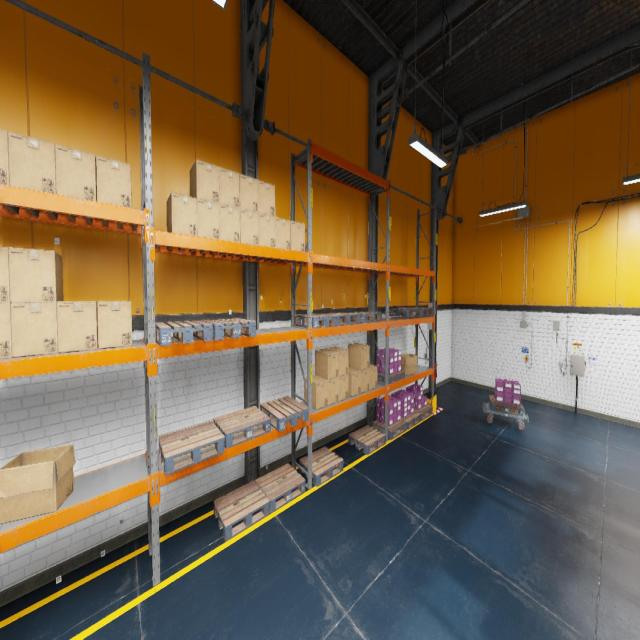box: (0, 444, 75, 524), (8, 130, 56, 194), (8, 247, 63, 302), (10, 302, 58, 358), (55, 144, 97, 202), (57, 301, 98, 353), (96, 155, 131, 207), (97, 301, 132, 348), (166, 192, 197, 236), (190, 159, 220, 203), (197, 198, 220, 239), (304, 374, 328, 410), (219, 167, 240, 208), (220, 204, 240, 242), (315, 348, 339, 379), (240, 208, 259, 244), (240, 174, 258, 212), (0, 303, 12, 358), (258, 180, 275, 216), (327, 347, 348, 376), (348, 343, 370, 370), (0, 247, 10, 302), (259, 213, 275, 247), (349, 366, 369, 393), (275, 217, 291, 250), (0, 128, 9, 185), (290, 220, 304, 252), (348, 367, 361, 396), (402, 353, 418, 375), (328, 377, 338, 405), (339, 374, 348, 401), (370, 364, 377, 389)
pallets: (158, 420, 224, 474), (213, 480, 270, 540), (255, 463, 305, 512), (213, 406, 270, 448), (299, 446, 343, 487), (260, 396, 308, 431), (155, 320, 213, 345), (201, 318, 256, 340), (349, 425, 386, 454), (489, 395, 524, 416), (372, 420, 407, 440), (295, 314, 338, 328), (320, 312, 360, 326), (348, 312, 382, 323), (401, 411, 420, 430), (378, 370, 405, 383), (414, 404, 433, 420), (389, 308, 421, 316), (408, 307, 433, 315)
